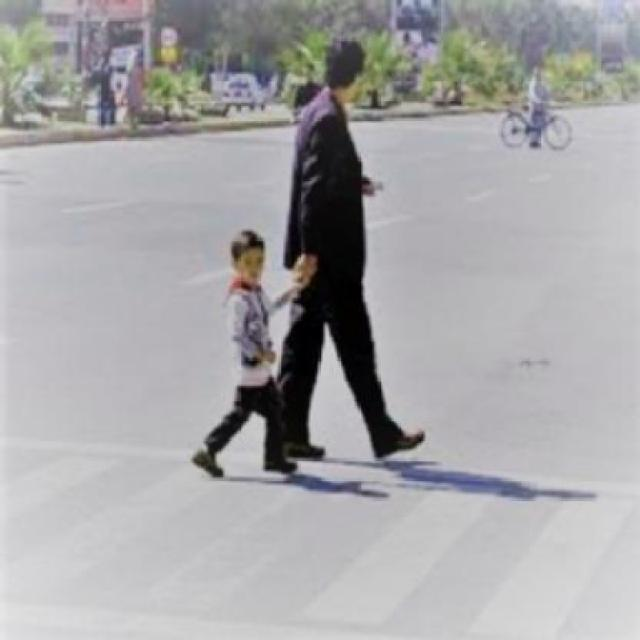Person: (282, 34, 430, 460), (194, 227, 304, 478)
